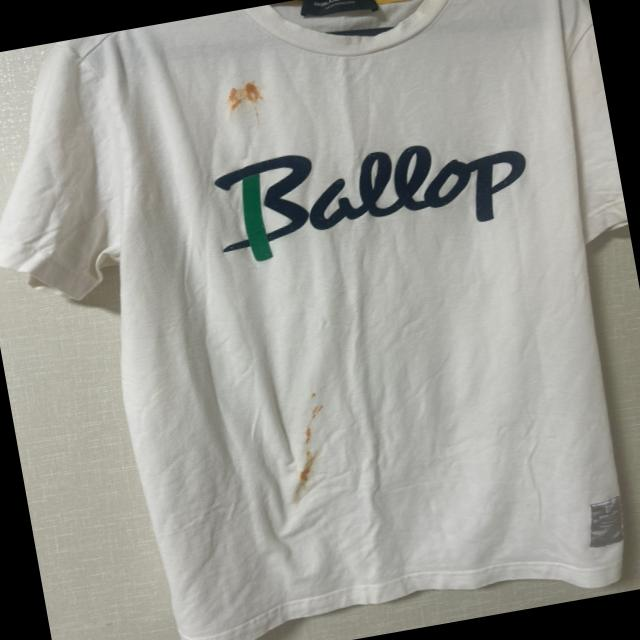stain: (291, 445, 326, 487), (299, 388, 332, 426), (245, 73, 268, 106), (225, 84, 251, 110), (302, 422, 322, 448)
